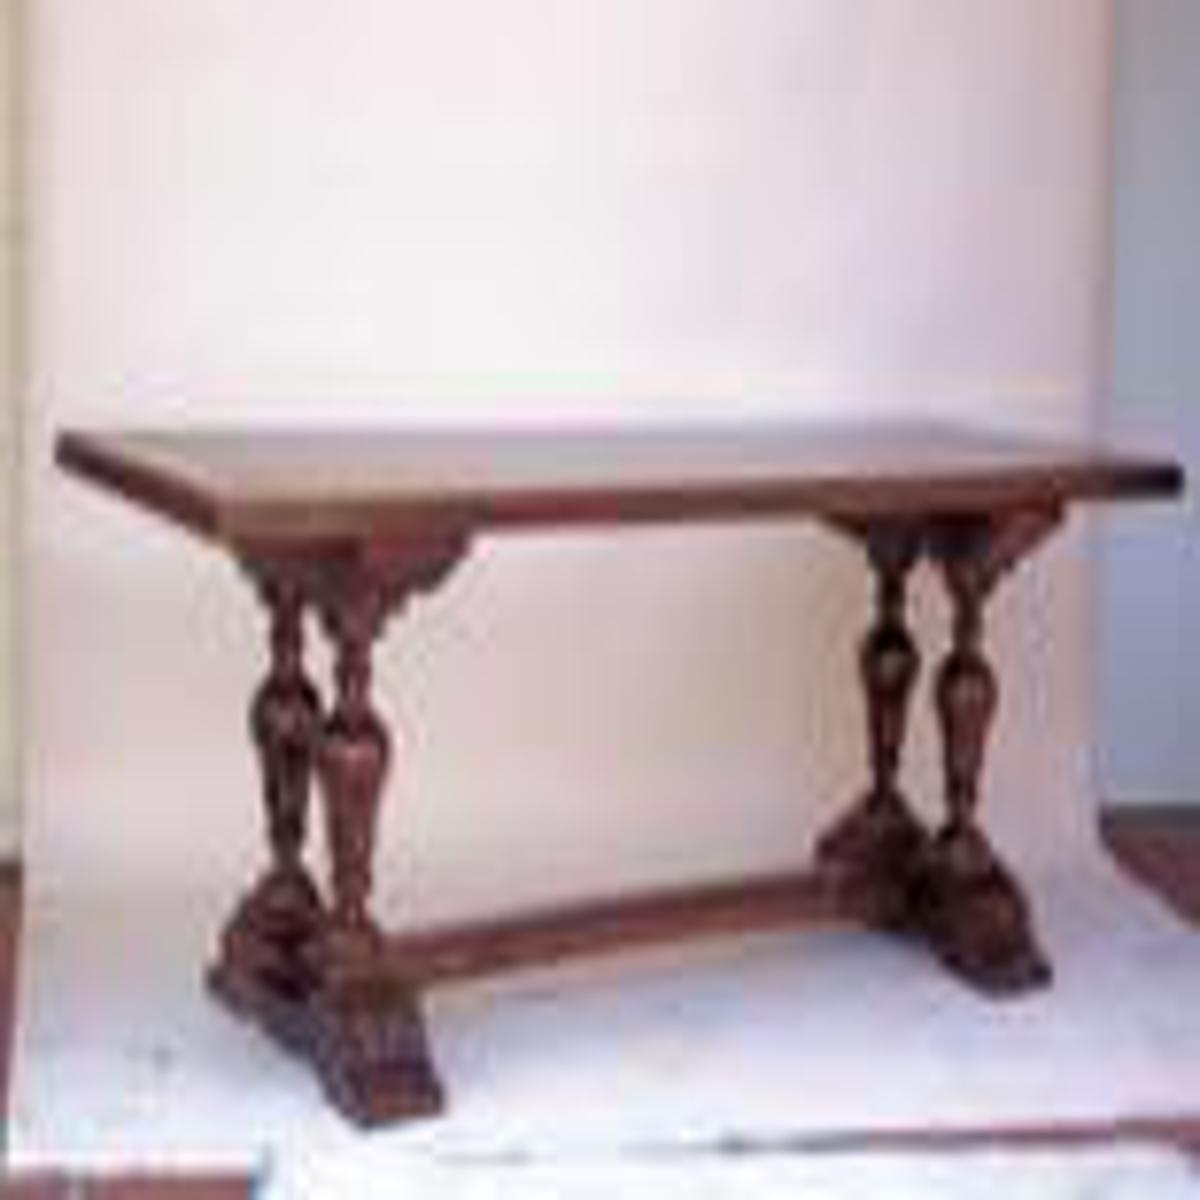Table: (36, 353, 1196, 1150)
